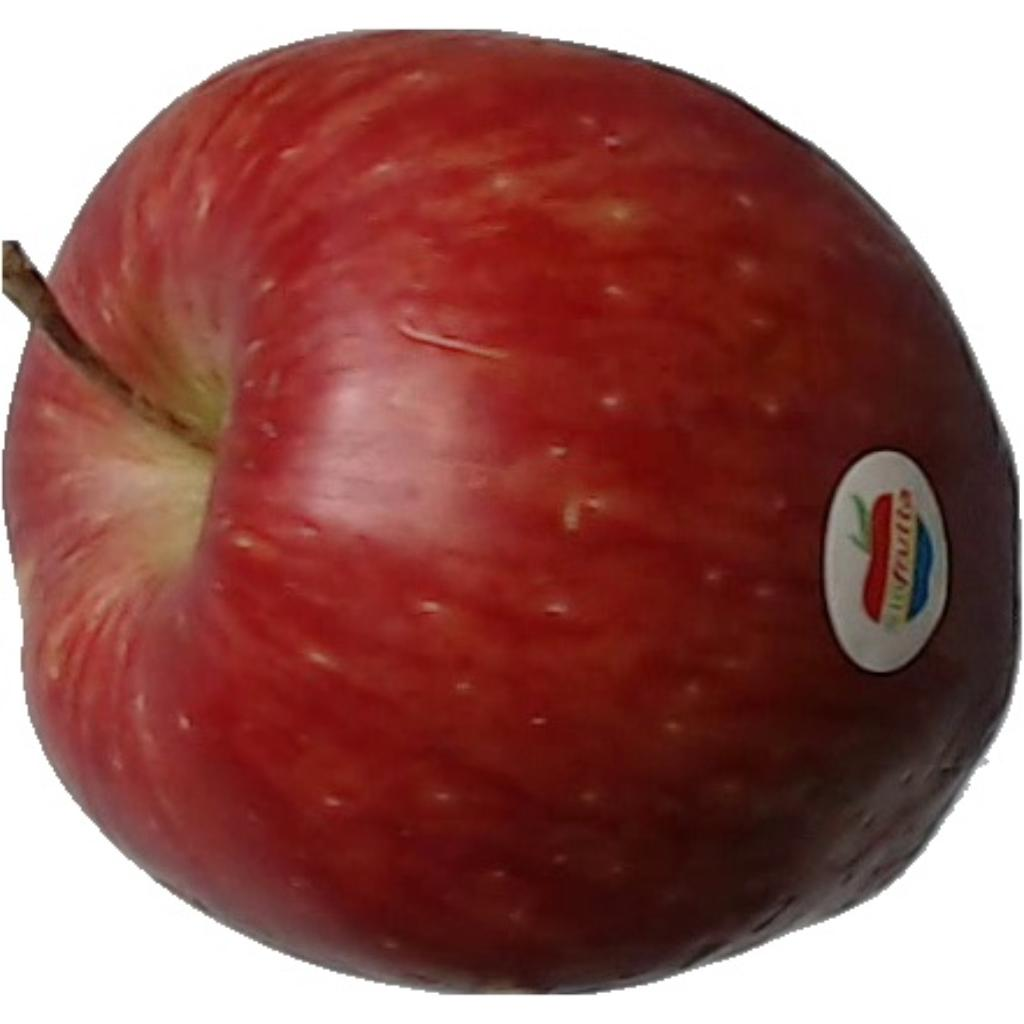apple: (4, 33, 1018, 990)
